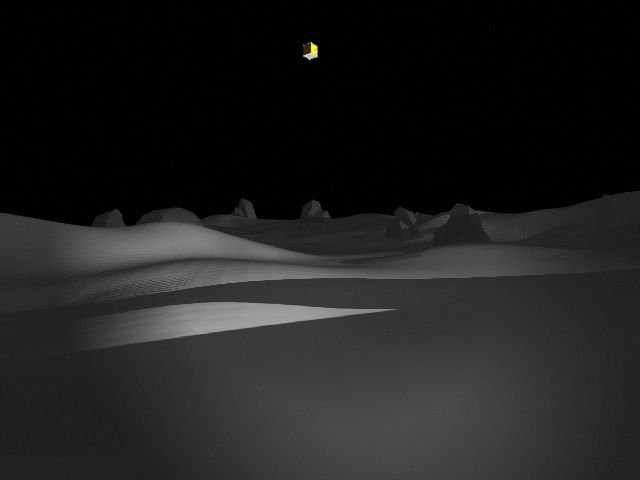cubesat: (302, 40, 319, 60)
